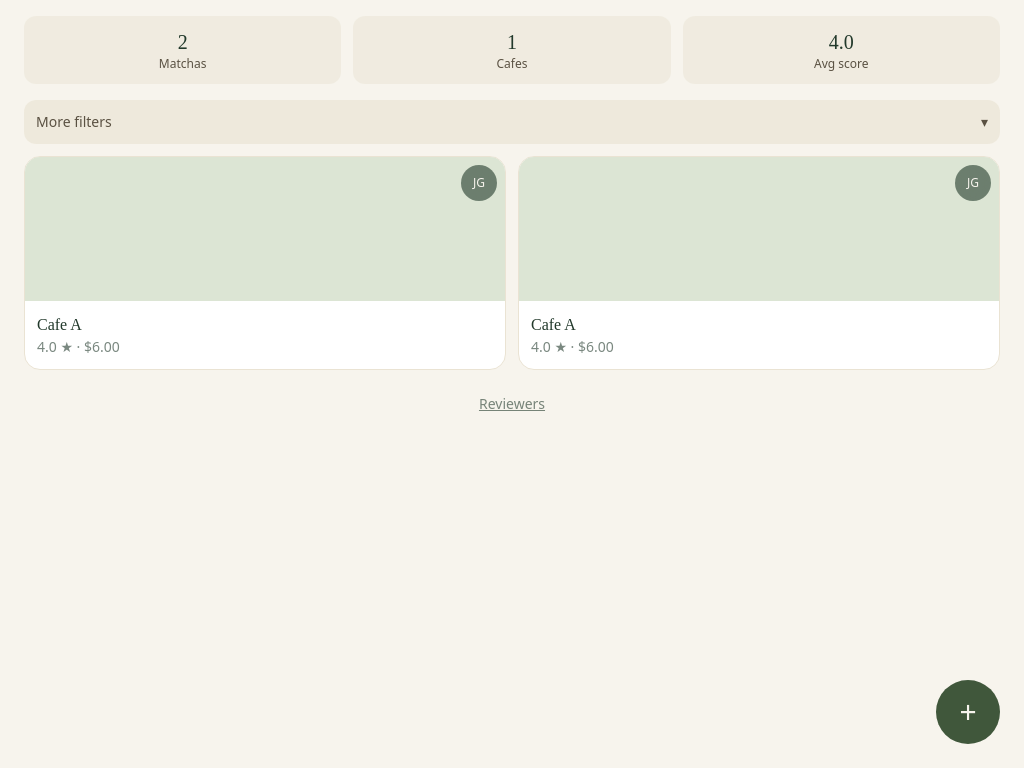
Dashboard review links and drafts filter › hides serve/milk behind More filters; collapsed filters still apply
Click the button "More filters ▾". click: (74, 122)
box: [24, 100, 1000, 144]
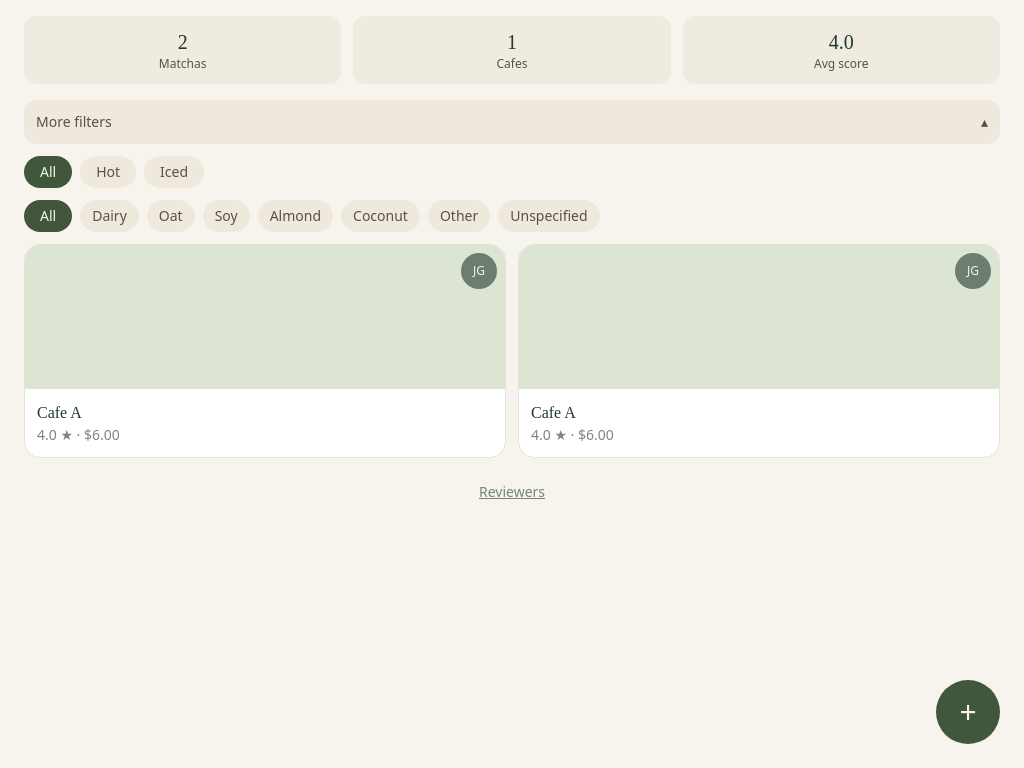
Check: the element named "milk" is shown, box [24, 200, 600, 232]
Click the button "hot". click: (108, 172)
box: [80, 156, 136, 188]
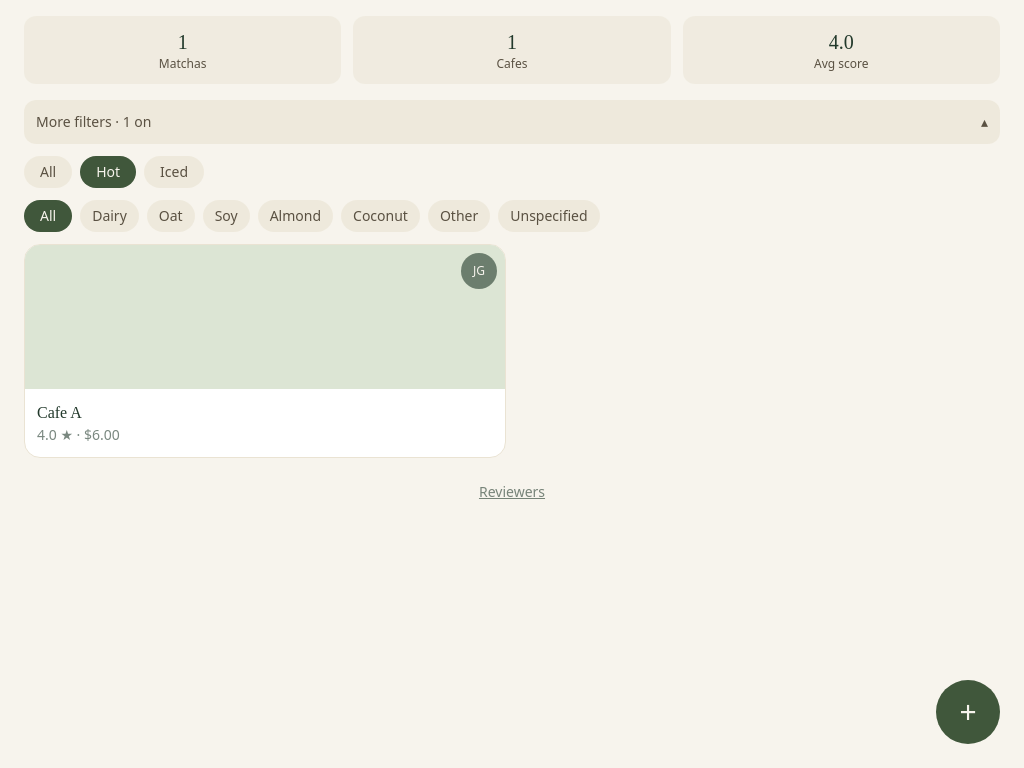
# Collapse again: the hot filter still applies and the bar says so.
Click the button "More filters · 1 on ▴". click: (74, 122)
box: [24, 100, 1000, 144]
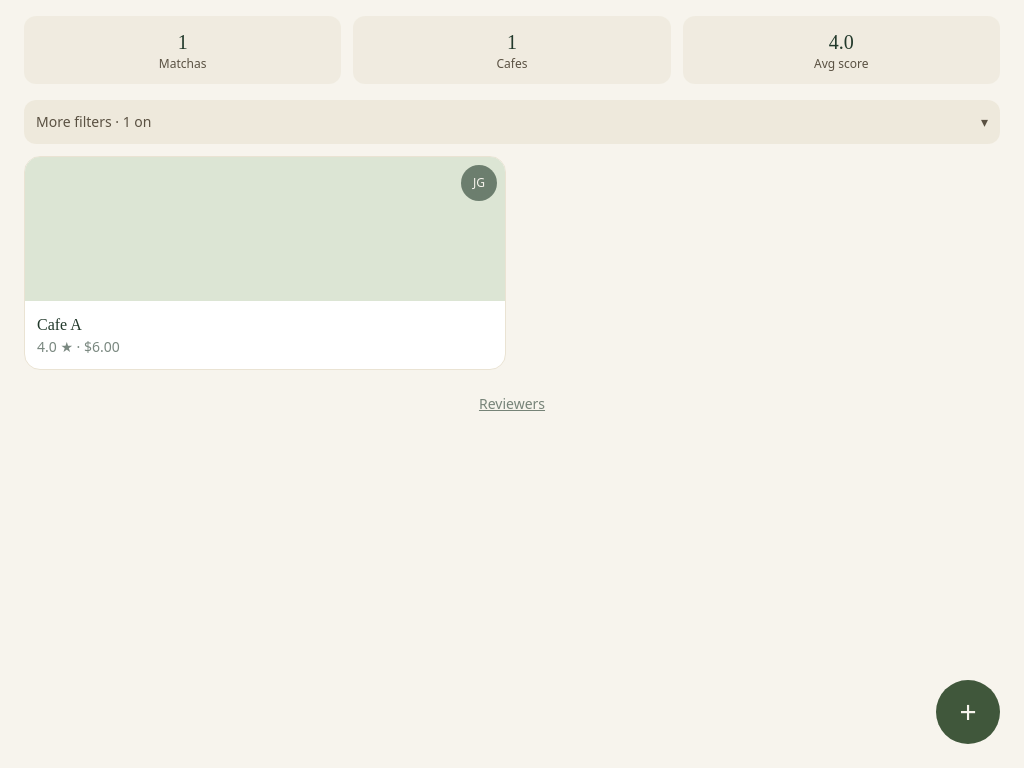
Check: the button "More filters · 1 on ▾" is shown, box [24, 100, 1000, 144]
Check: the element "serve" is gone
